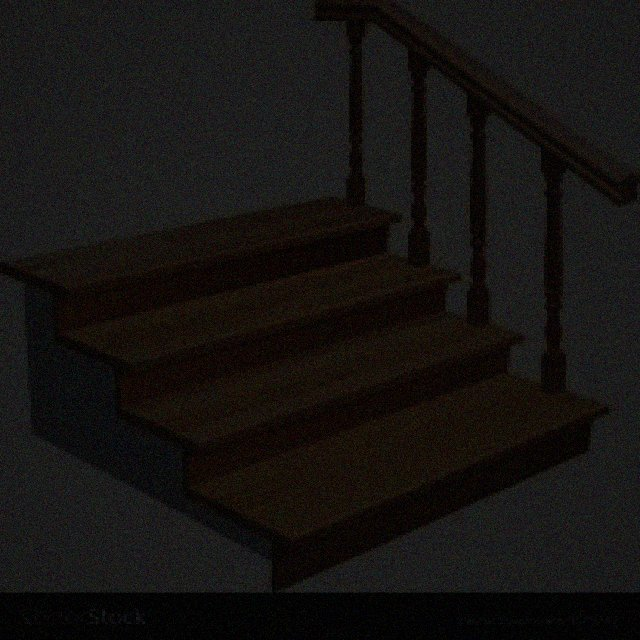stair: (0, 0, 637, 588)
